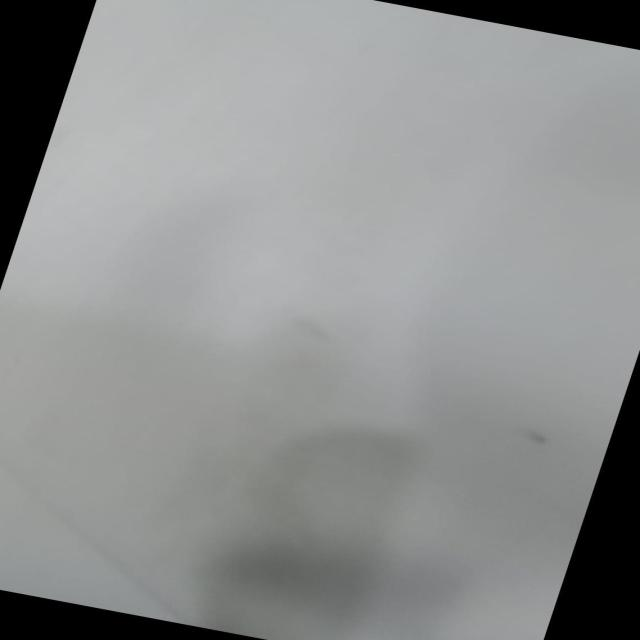stain: (175, 399, 444, 640), (244, 303, 336, 380), (504, 414, 576, 464)
